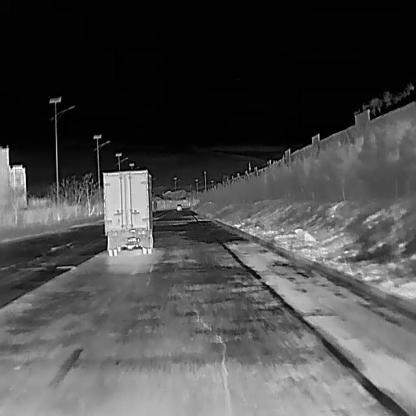car: (175, 202, 181, 210)
truck: (101, 168, 156, 255)
